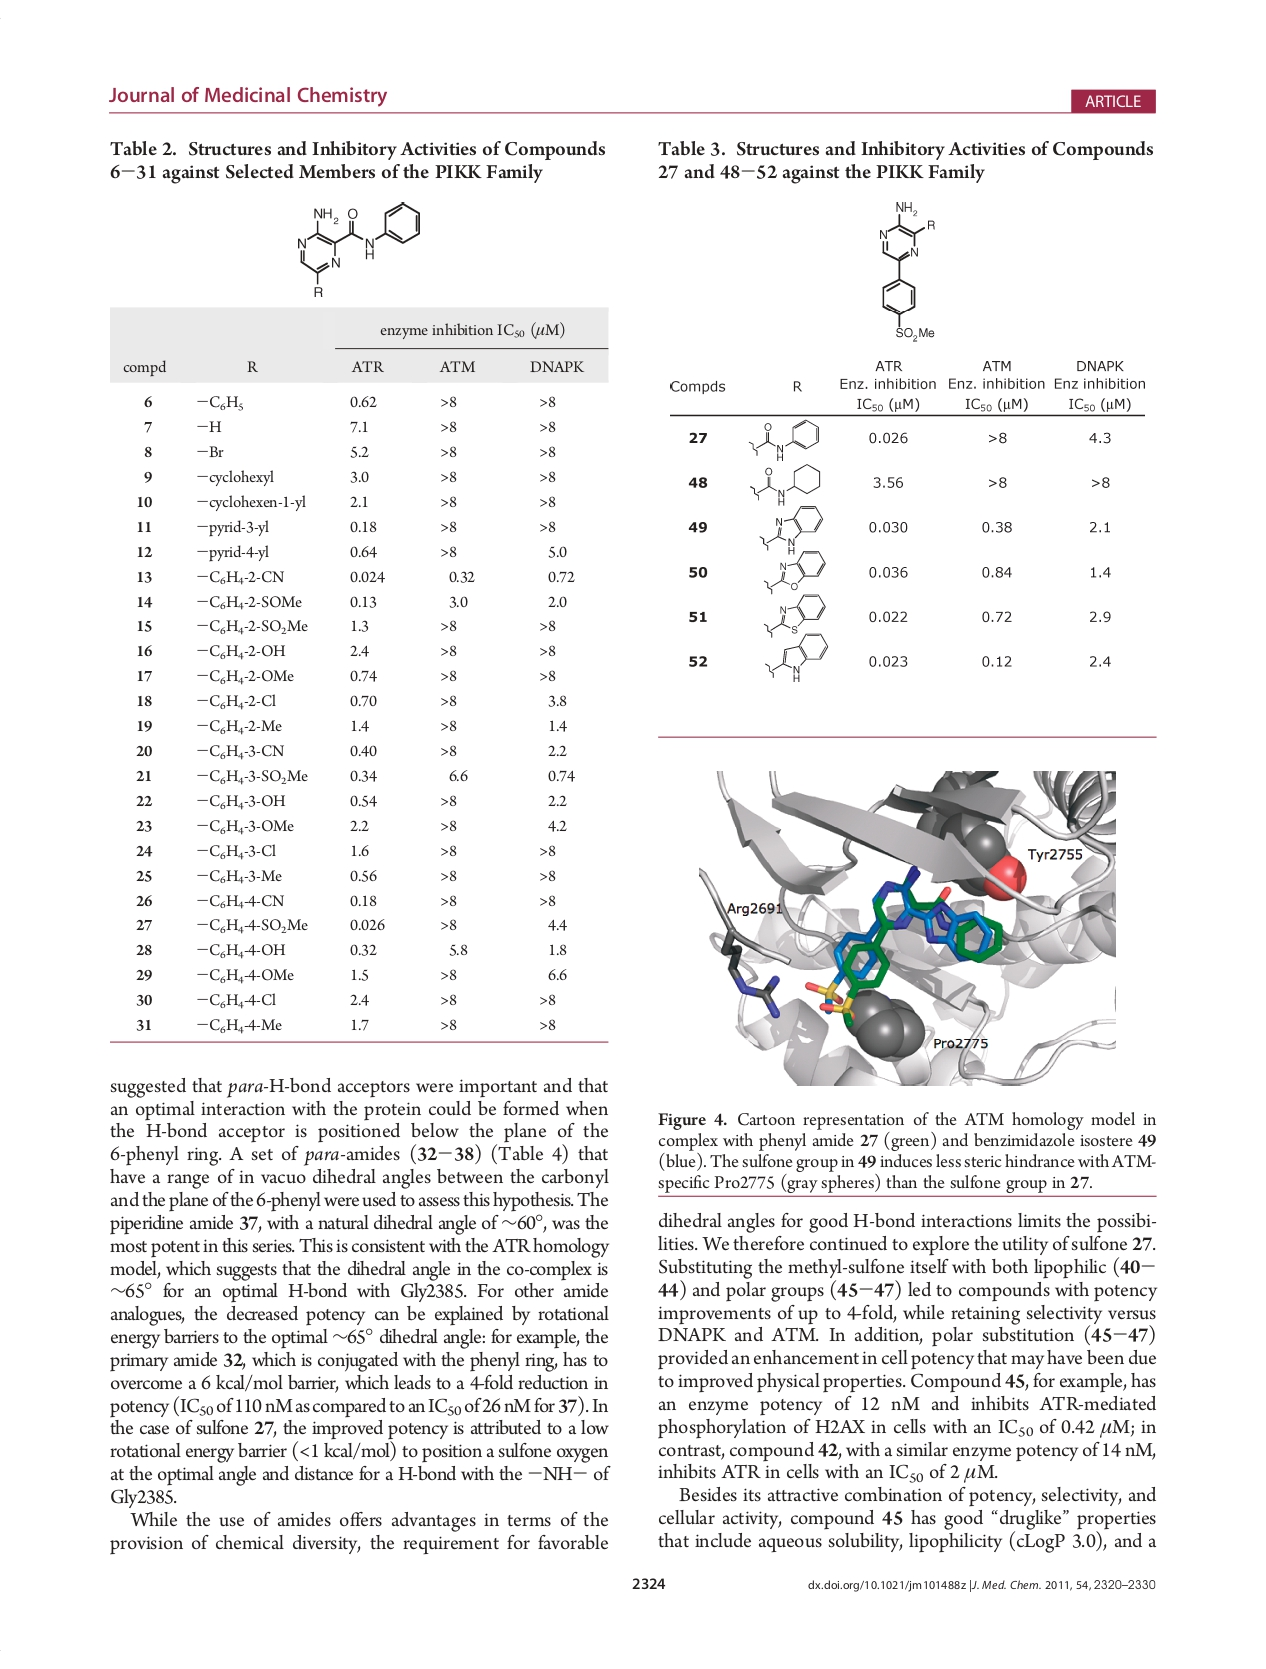exist_molecular: (287, 197, 424, 299), (870, 193, 953, 343), (747, 505, 824, 555), (743, 461, 824, 507), (762, 632, 828, 684), (745, 419, 819, 461), (761, 549, 827, 594), (761, 594, 828, 637)
